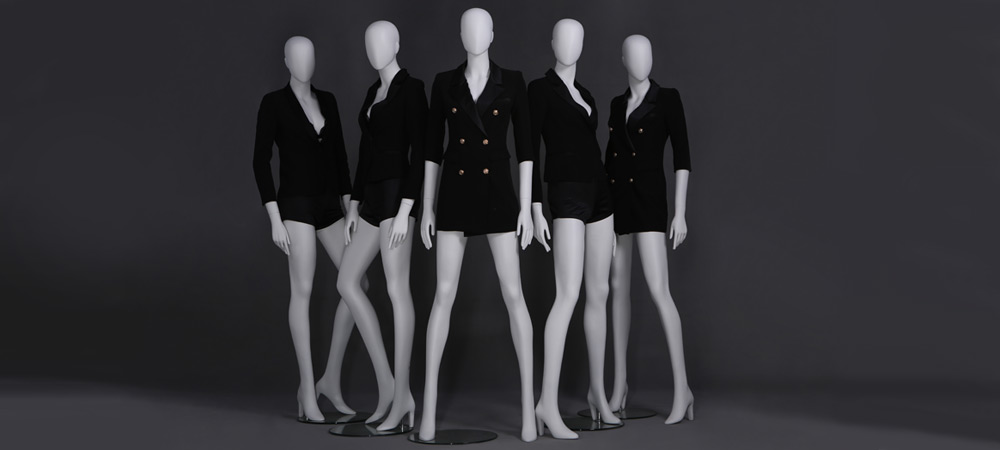person-like: (413, 2, 542, 447), (248, 30, 360, 427), (529, 11, 624, 443), (603, 28, 698, 428), (335, 16, 424, 433)
